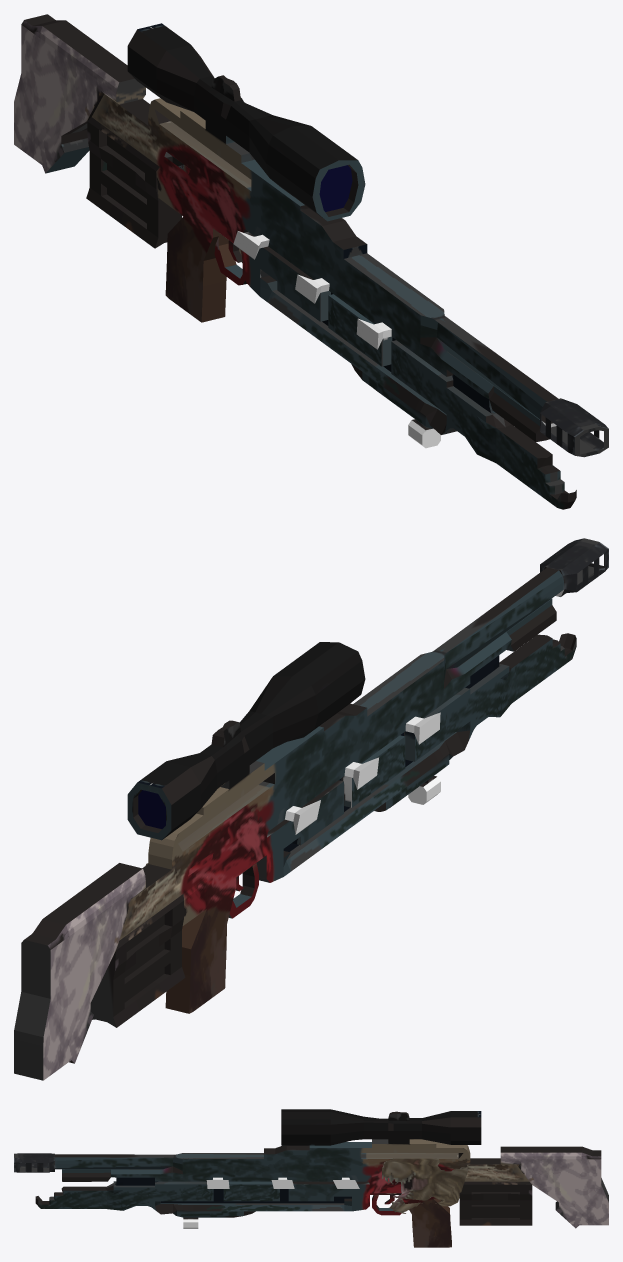
File: Sniper (2).fbx
3 renders of one model, top to bottom at view 1: azimuth 30°, elevation 25°; view 2: azimuth 150°, elevation 25°; view 3: azimuth 270°, elevation 25°, orthographic. The views are drawn at different scales.
Visible parts, largest first — view 1: Cube; view 2: Cube; view 3: Cube, Trex.
Boxes of the visible parts, bbox=[...] form: Cube: bbox=[14, 14, 608, 509]; Cube: bbox=[14, 538, 608, 1080]; Cube: bbox=[14, 1109, 608, 1247]; Trex: bbox=[382, 1158, 468, 1213].
Bounding box in the file's own units: 32.23 × 124 × 505.
Materials: 2 (2 with a texture image).
